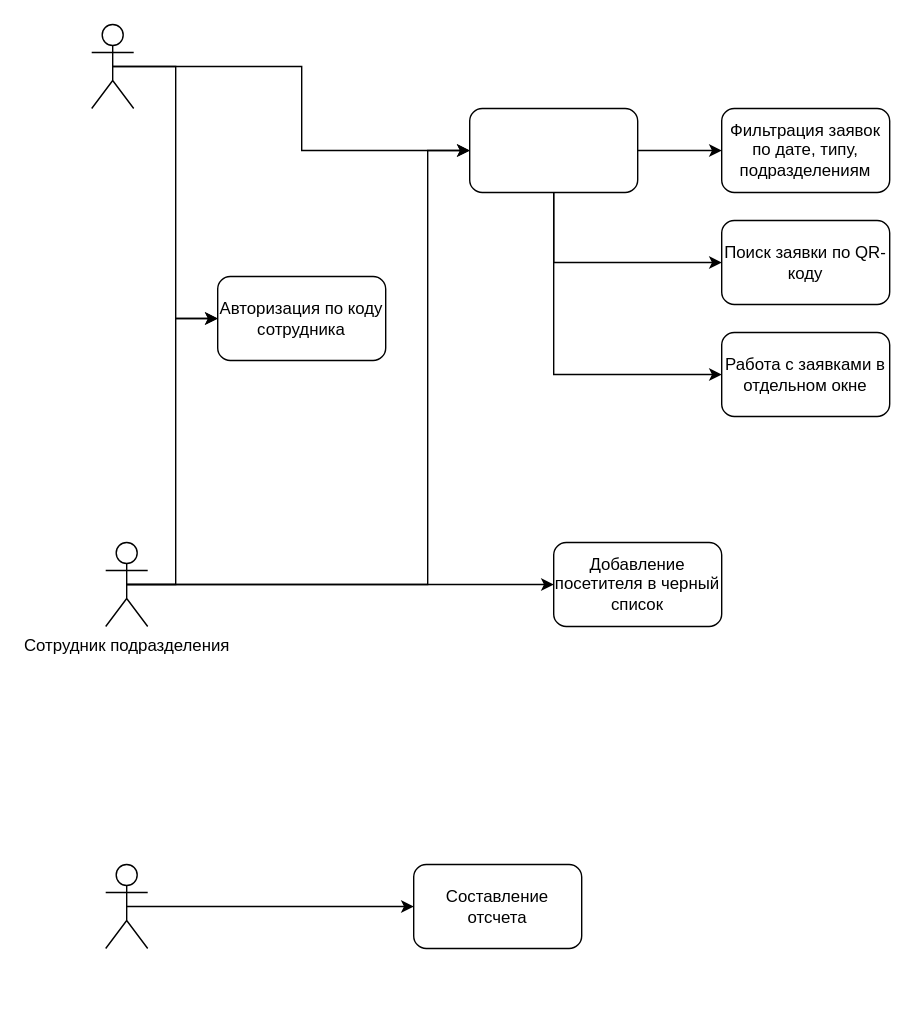
Image size: 914x1023. Some labels were removed from this diagram. The centre of each missing label's shape, as x and y in pixels:
"Просмотр списка одобренных заявок" goes at pixel 553 149.
"Сотрудник общего отдела" goes at pixel 126 905.
"Сотрудник охраны" goes at pixel 112 65.
